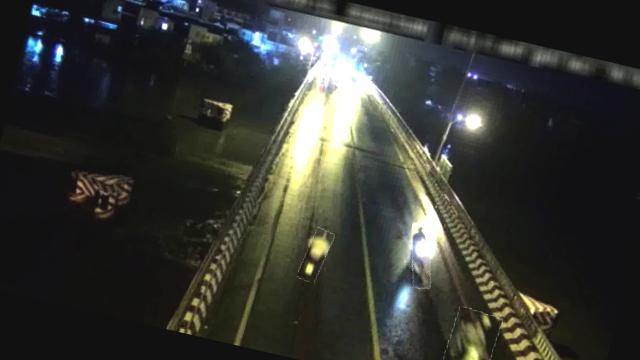Bike: (438, 305, 501, 360), (402, 221, 441, 291), (297, 227, 333, 285)
